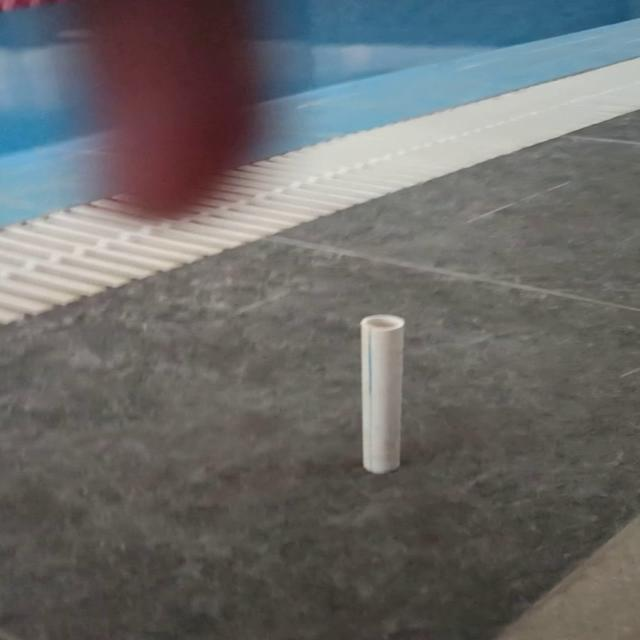Cube: (358, 314, 406, 474)
